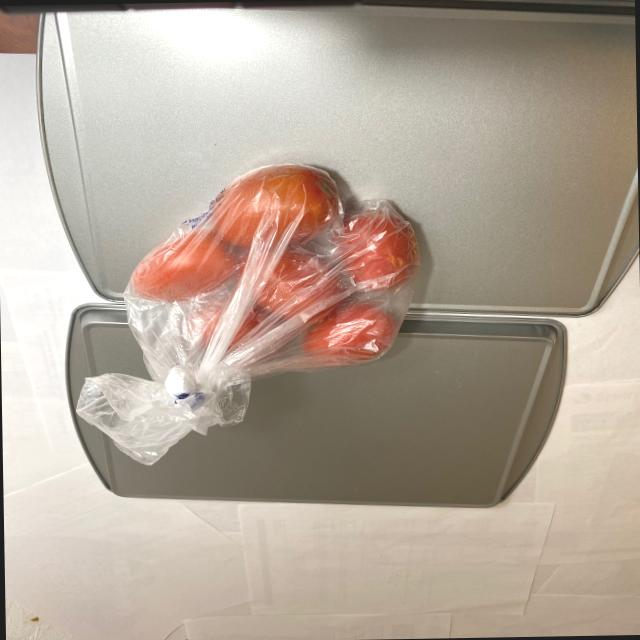tomato: (119, 160, 418, 378)
